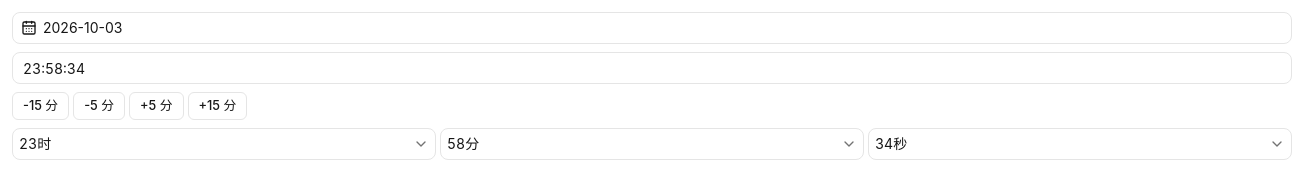
Test: adjusts minutes across midnight without losing seconds
This screenshot has width=1304, height=177.
Click the button named "开始增加 5 分钟" at (156,106), box [129,92,184,120]
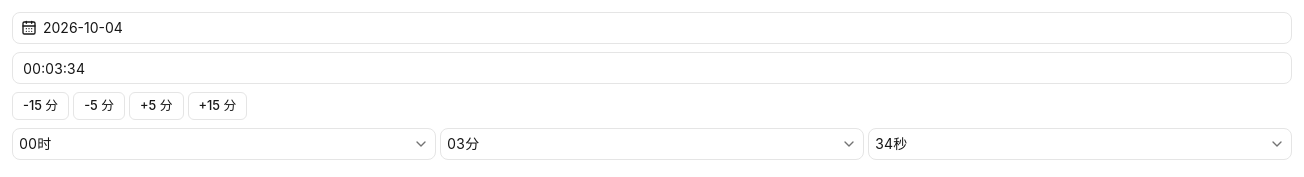
Expected: the button named "开始日期" reads "2026-10-04", [12,12,1292,44]
Expected: the field named "开始时间输入" holds "00:03:34", [12,52,1292,84]
Click the button named "开始减少 15 分钟" at (41,106), box [12,92,69,120]
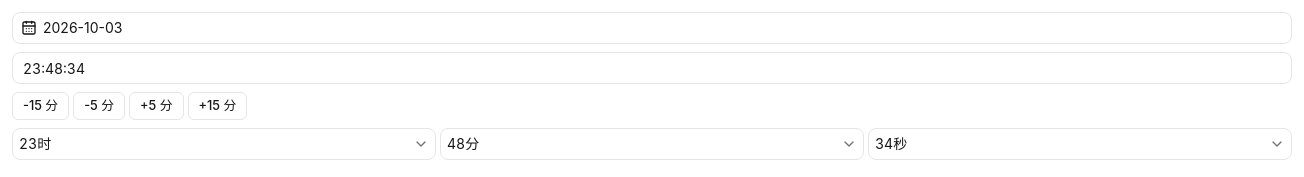
Expected: the button named "开始日期" reads "2026-10-03", [12,12,1292,44]
Expected: the field named "开始时间输入" holds "23:48:34", [12,52,1292,84]
